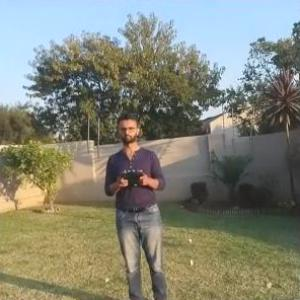follow: (96, 106, 174, 299)
